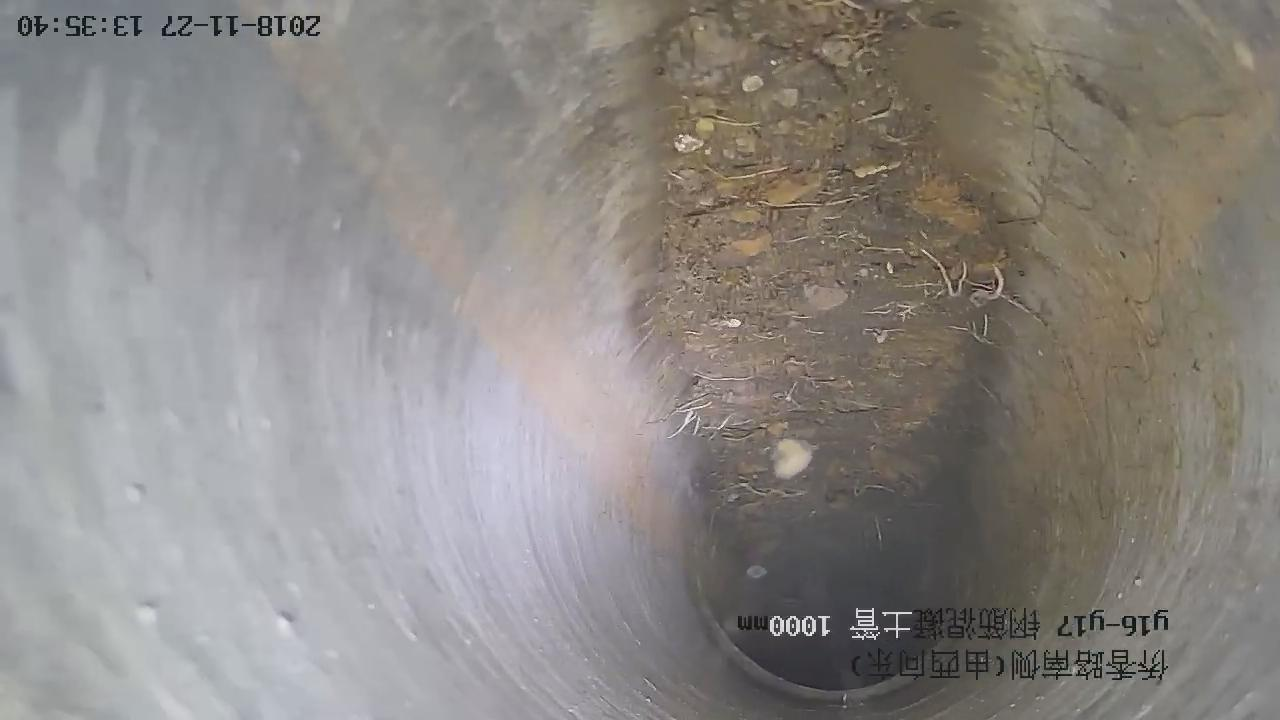CJ: (643, 1, 1008, 538)
CKTJ: (708, 618, 901, 706)
